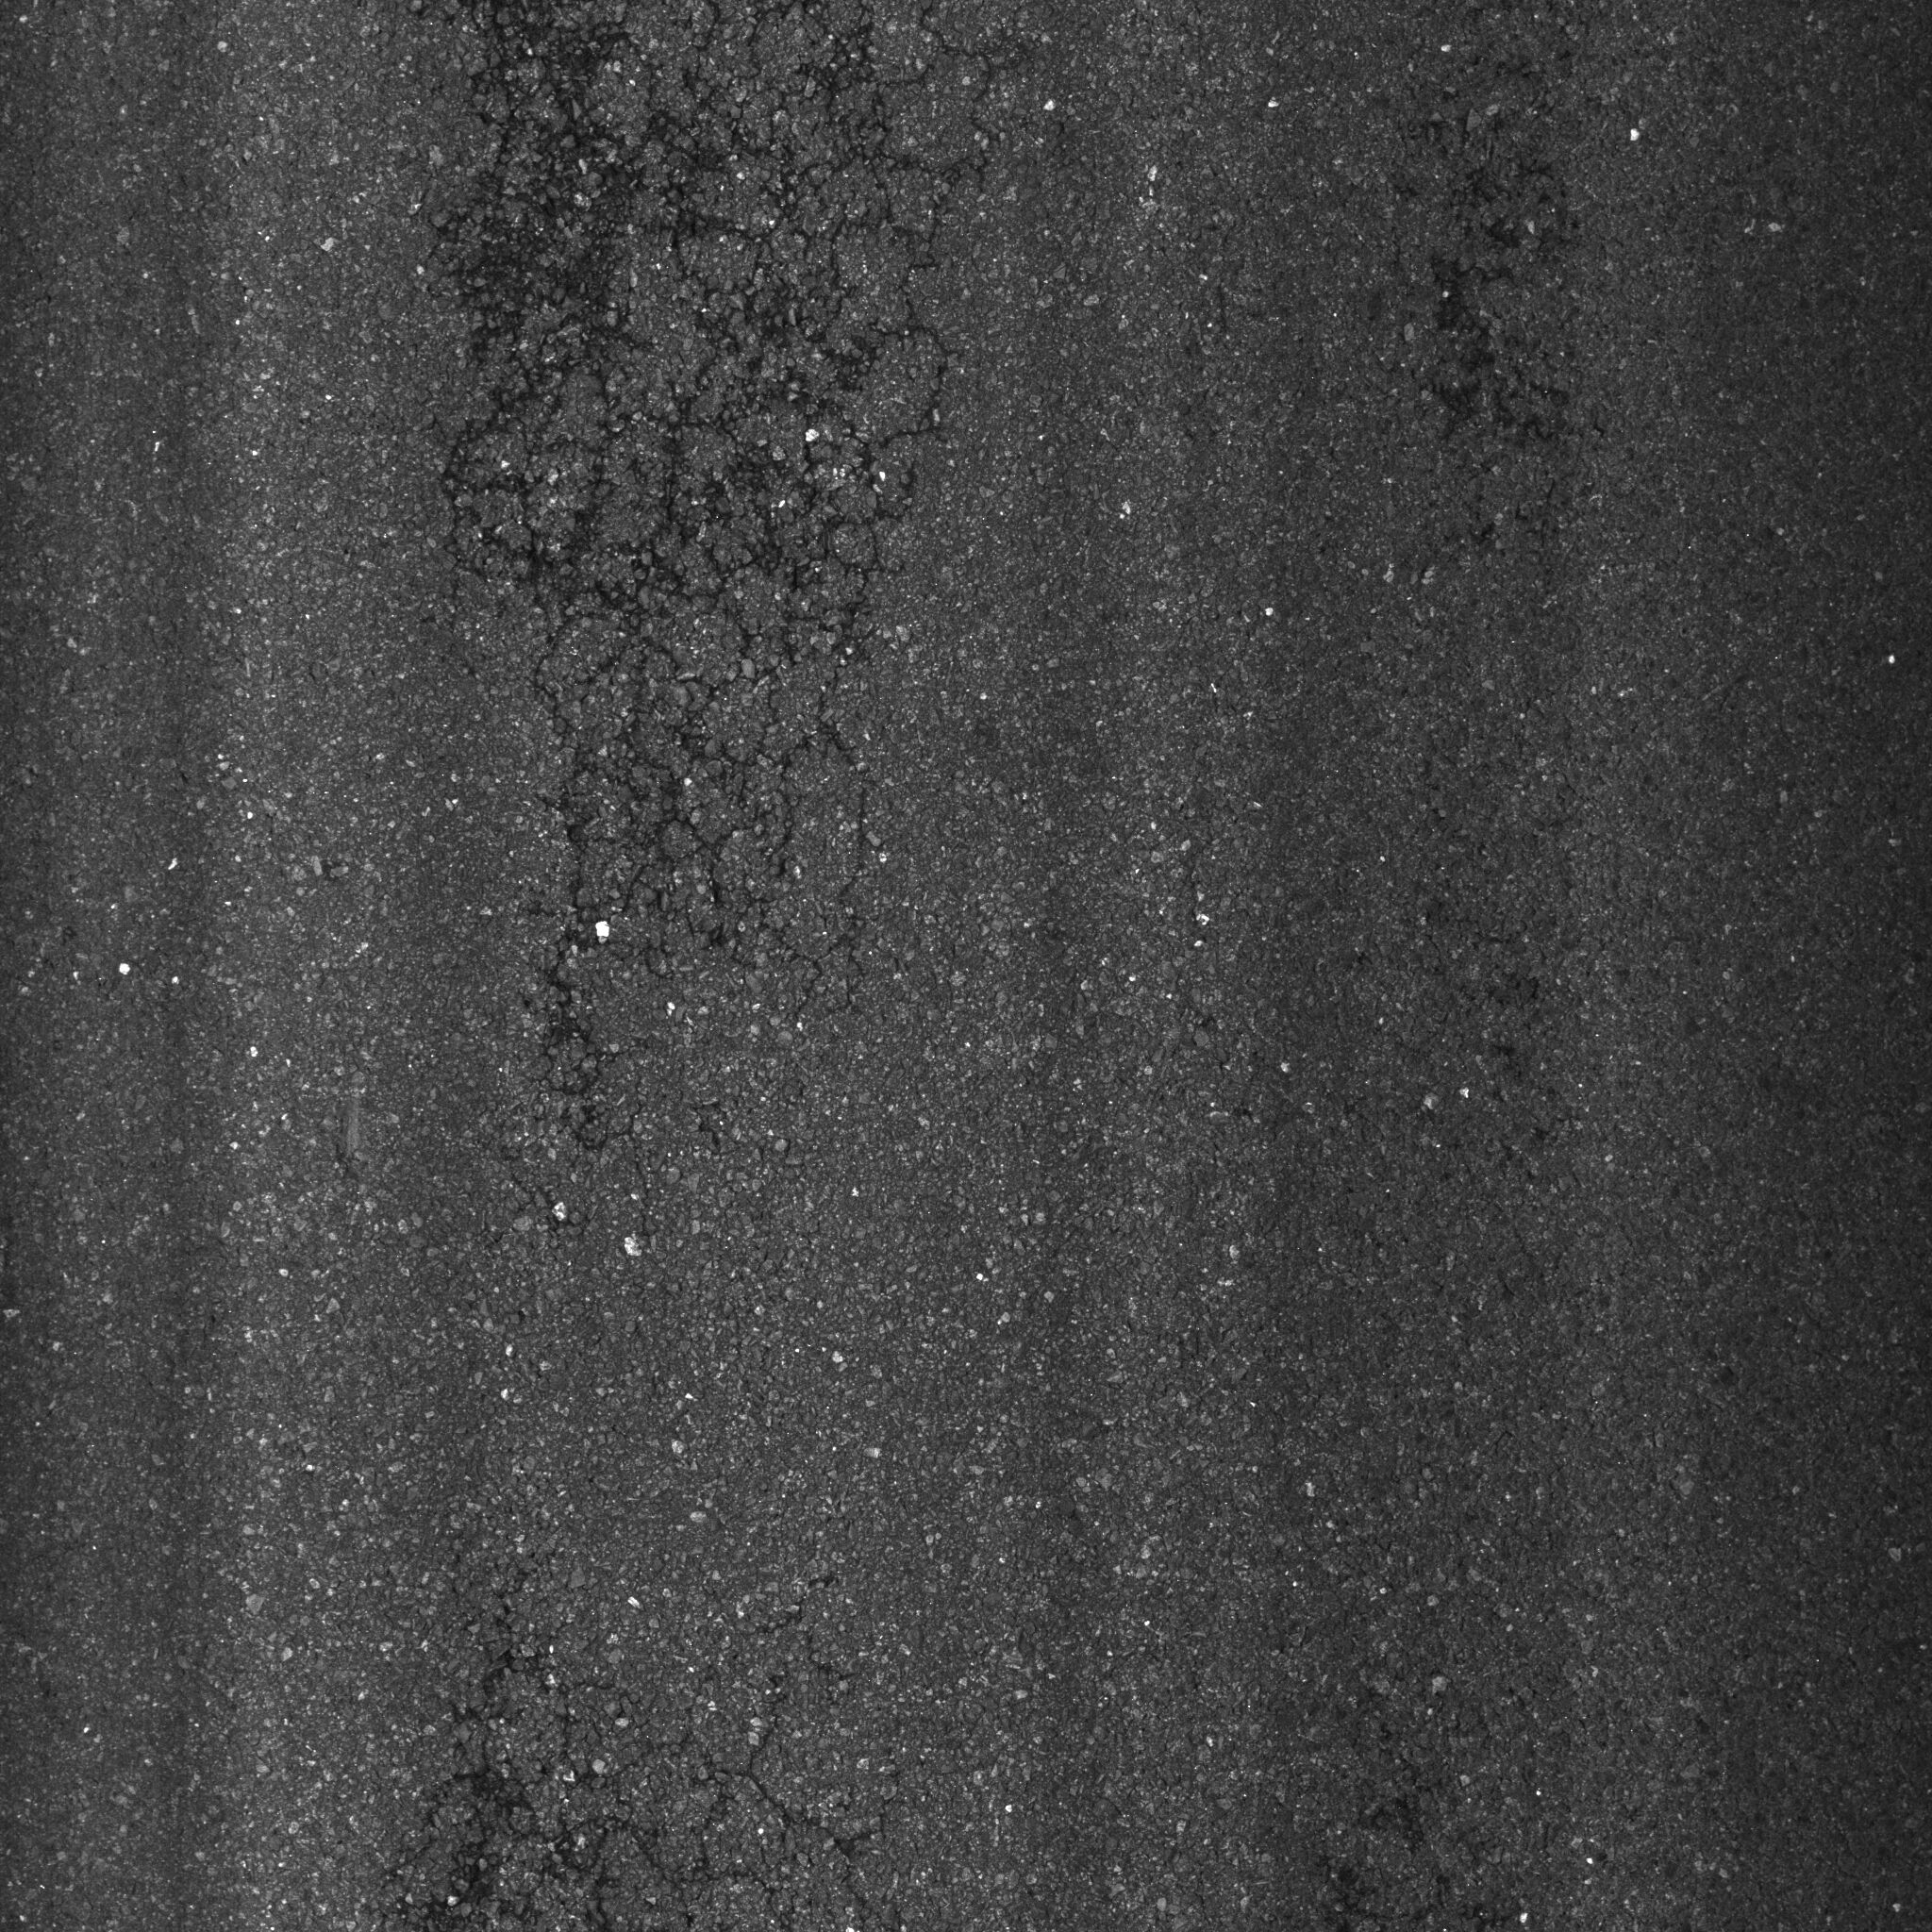alligator: (382, 5, 1113, 1164), (303, 1529, 943, 1932)
